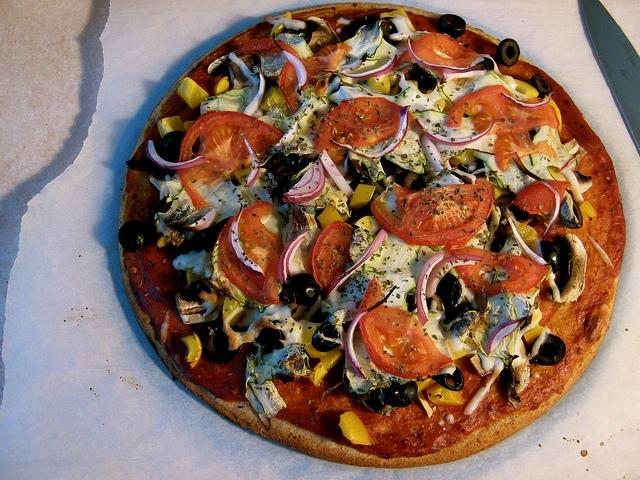onion: (320, 229, 388, 301), (345, 285, 397, 379), (332, 105, 412, 160), (511, 152, 561, 238), (406, 36, 486, 74), (502, 204, 550, 266), (228, 204, 264, 278), (426, 254, 484, 298), (464, 358, 504, 416), (414, 118, 494, 146), (416, 252, 446, 326), (274, 32, 308, 96), (146, 139, 210, 170), (282, 158, 326, 203), (278, 230, 312, 284), (322, 55, 398, 78), (320, 150, 353, 198), (486, 320, 520, 356), (243, 66, 266, 115), (586, 232, 614, 270), (420, 132, 444, 172), (178, 207, 216, 232), (560, 168, 585, 206), (244, 137, 261, 187), (499, 92, 552, 108), (228, 52, 254, 80), (274, 16, 306, 30), (525, 240, 545, 260), (336, 18, 351, 26)
tomato: (177, 111, 284, 211), (358, 274, 456, 378), (238, 38, 352, 113), (371, 178, 494, 246), (314, 97, 414, 164), (218, 202, 280, 305), (447, 84, 560, 134), (448, 247, 550, 297), (392, 32, 482, 71), (494, 124, 558, 172), (311, 220, 355, 289), (512, 179, 572, 215)
